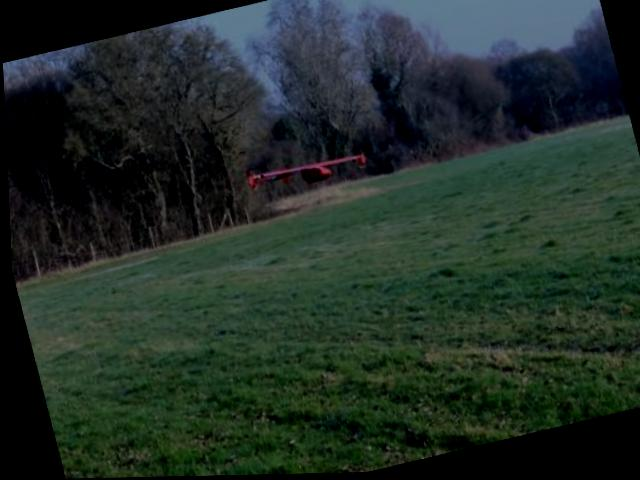uav: (238, 130, 367, 212)
